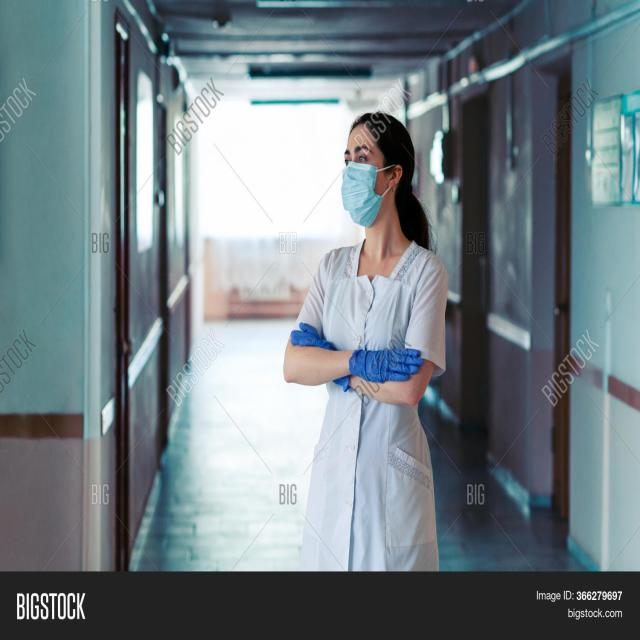Gloves: (350, 343, 432, 390)
Mask: (338, 158, 410, 231)
